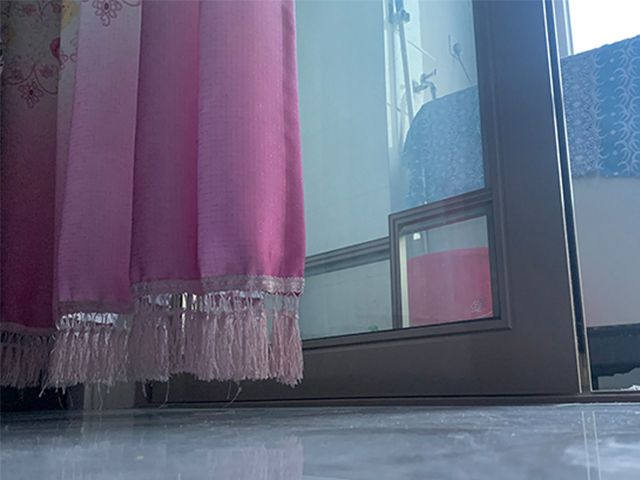curtain: (1, 1, 307, 392)
